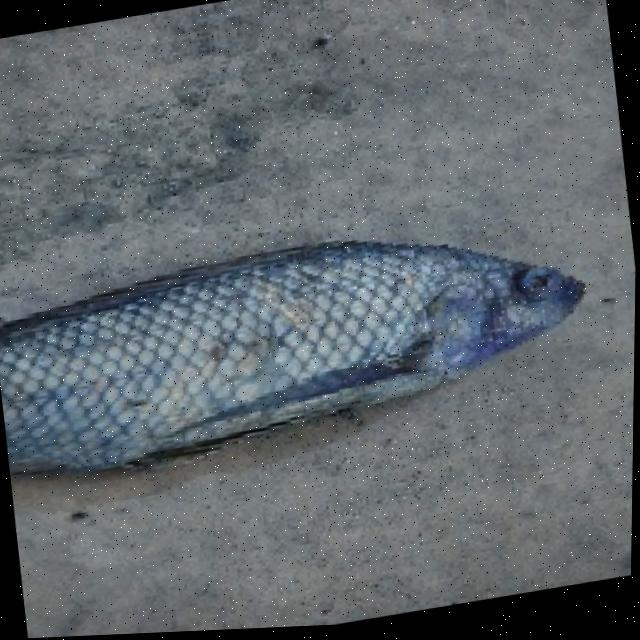Non-Fresh: (0, 185, 614, 483)
